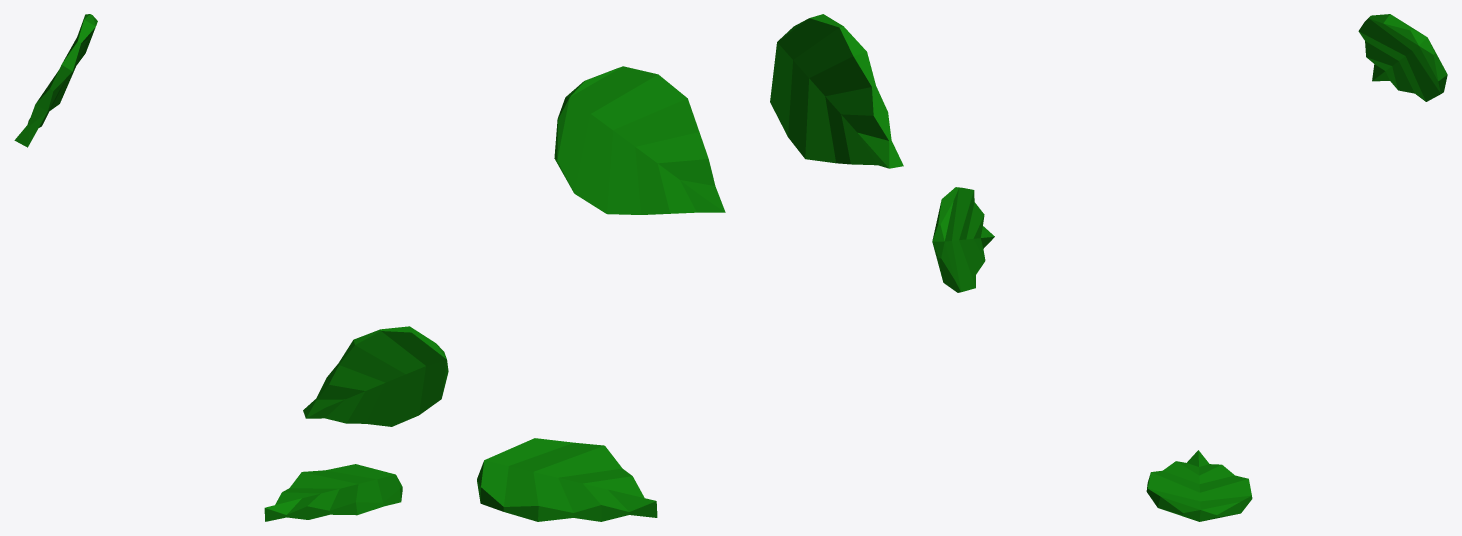
Rendered from Wood_Power.fbx.
3 views of the same model, side by side, from view 1: azimuth 30°, elevation 25°; view 2: azimuth 150°, elevation 25°; view 3: azimuth 270°, elevation 25° (orthographic). The views are drawn at different scales.
Parts seen in each view (by area): view 1: 平面; view 2: 平面; view 3: 平面.
Boxes of the visible parts, x1,y1,x2,y2 form: 平面: (14, 14, 448, 521); 平面: (477, 14, 903, 521); 平面: (932, 14, 1447, 521).
Size of the model in its own units: 616 by 923 by 1041.
